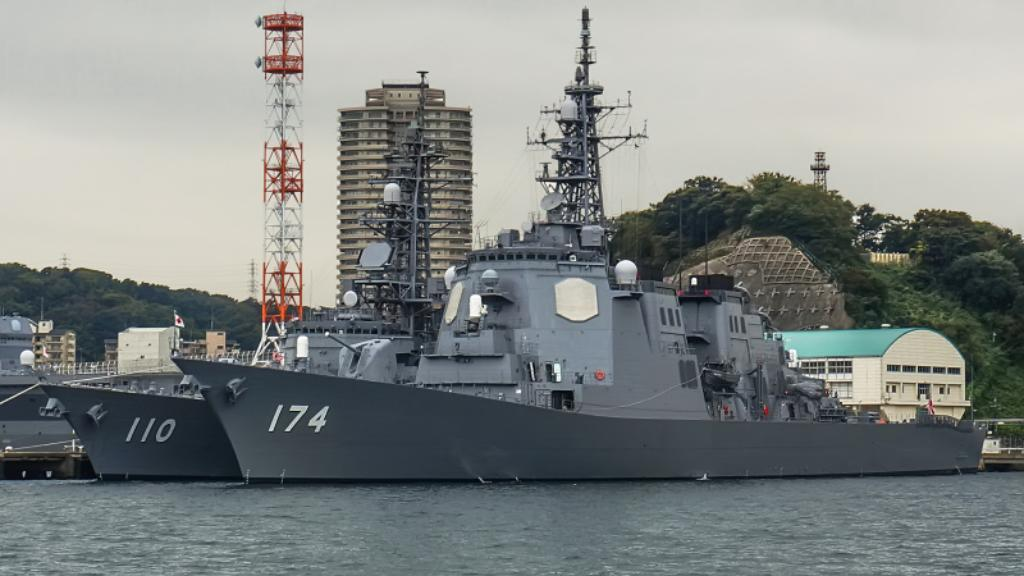Warship: (172, 6, 992, 490), (40, 66, 524, 484)
